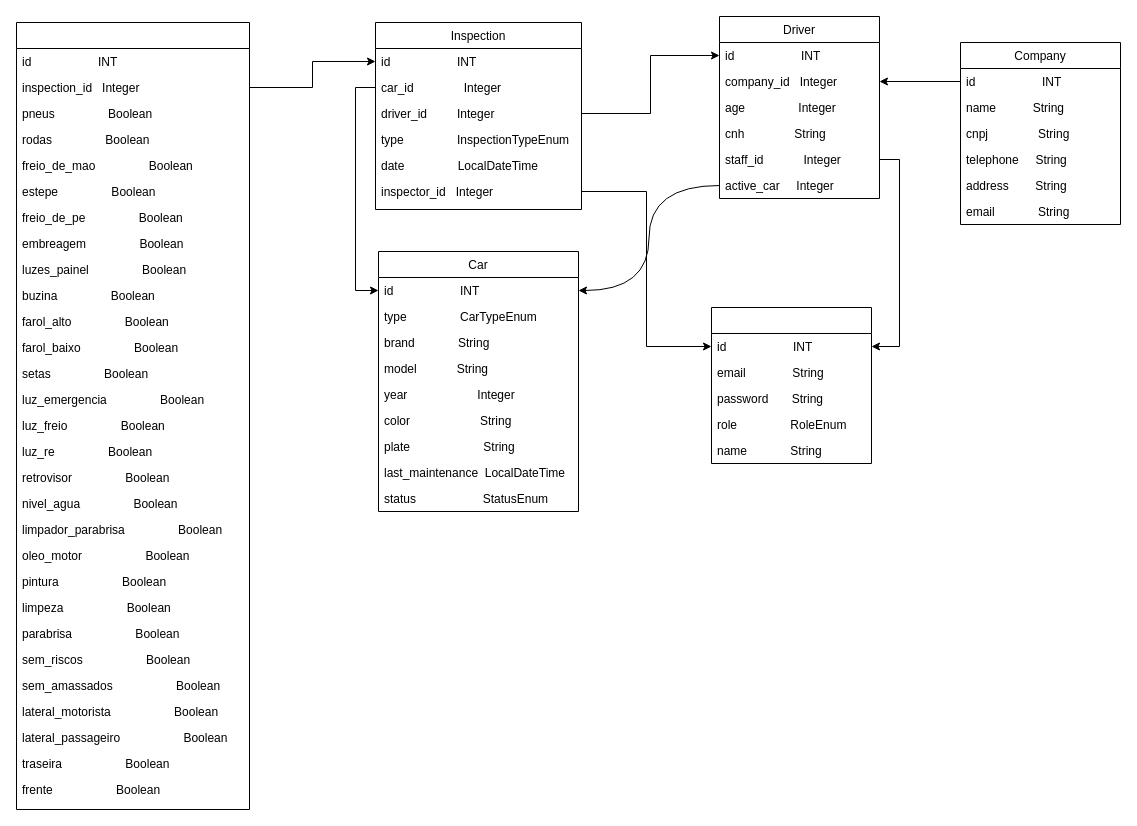
The diagram is 1137 pixels wide and 826 high, and some of its shapes have lost their labels. Each missing label, with the box of its shape:
InspectionDetails: (16, 22, 250, 810)
Staff: (710, 306, 872, 464)
